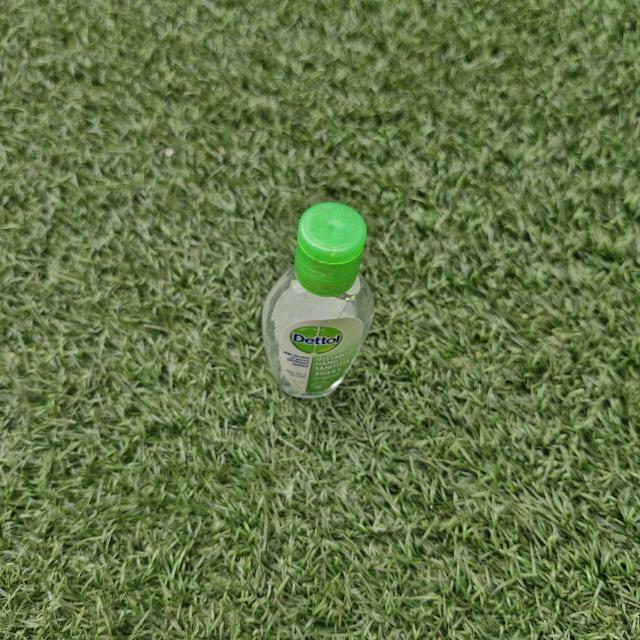plastic: (263, 195, 381, 408)
